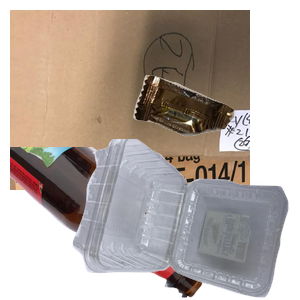cardboard: (10, 10, 250, 190)
glass: (10, 147, 207, 300)
plastic: (70, 139, 300, 300)
trash: (131, 73, 300, 202)
